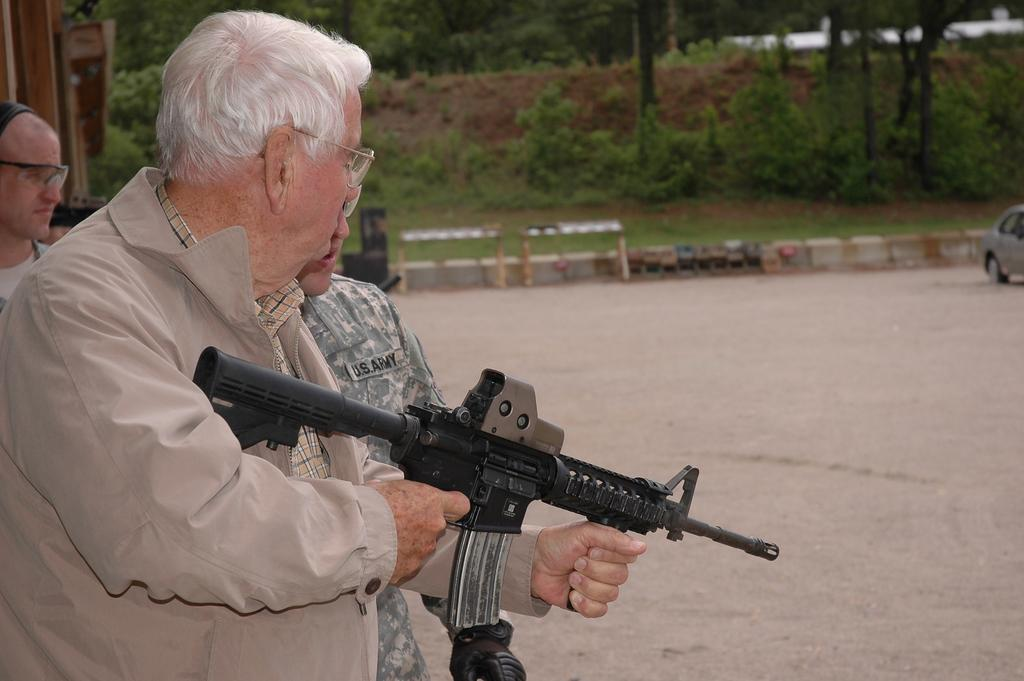Rifle: (193, 347, 780, 680)
